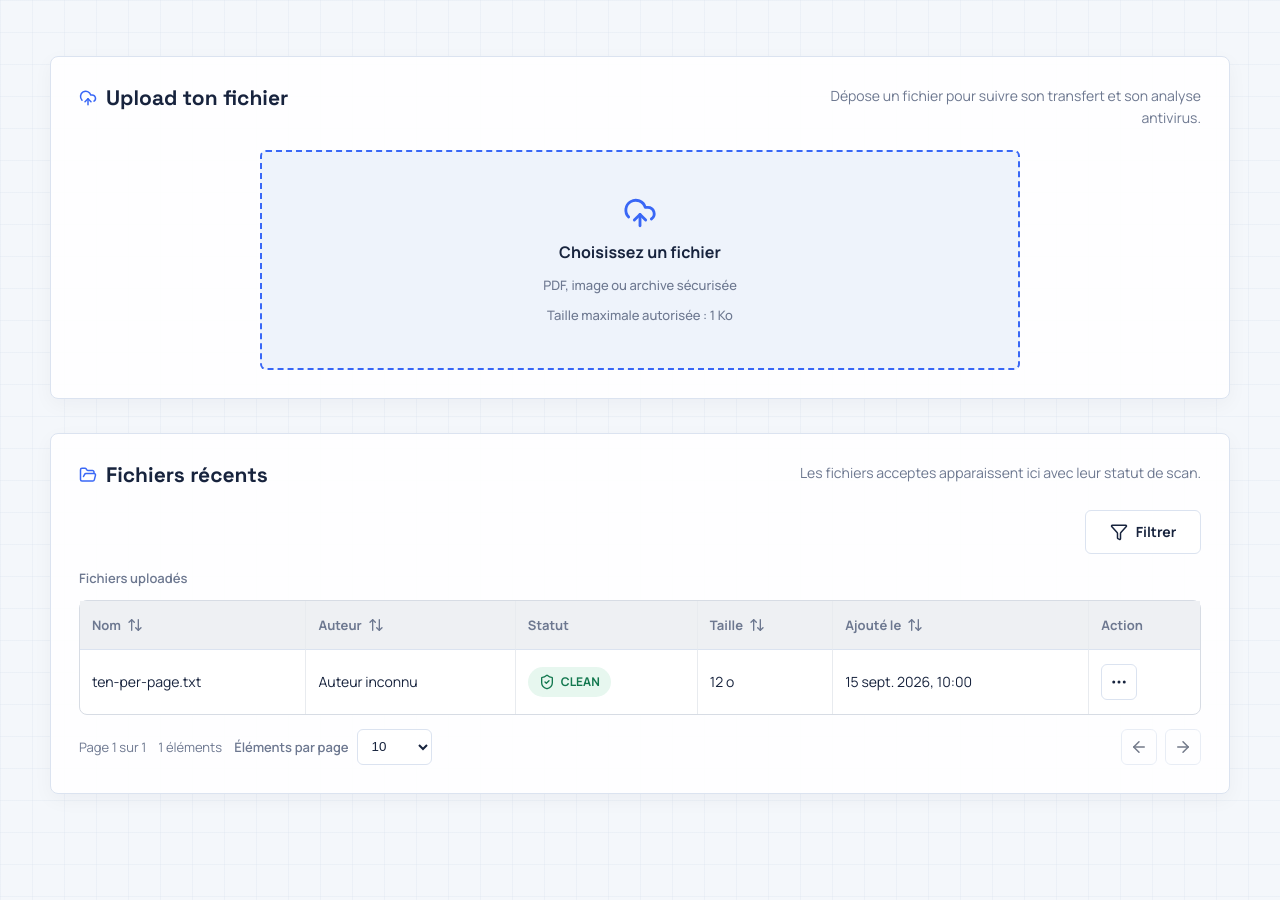
Test case: DashboardPage › requests the selected page size from the backend
Expected: the text "ten-per-page.txt" is shown, top-left (80, 650), bottom-right (306, 714)
Select "25" in the dropdown labelled "Éléments par page" at (394, 747), box top-left (357, 729), bottom-right (432, 765)
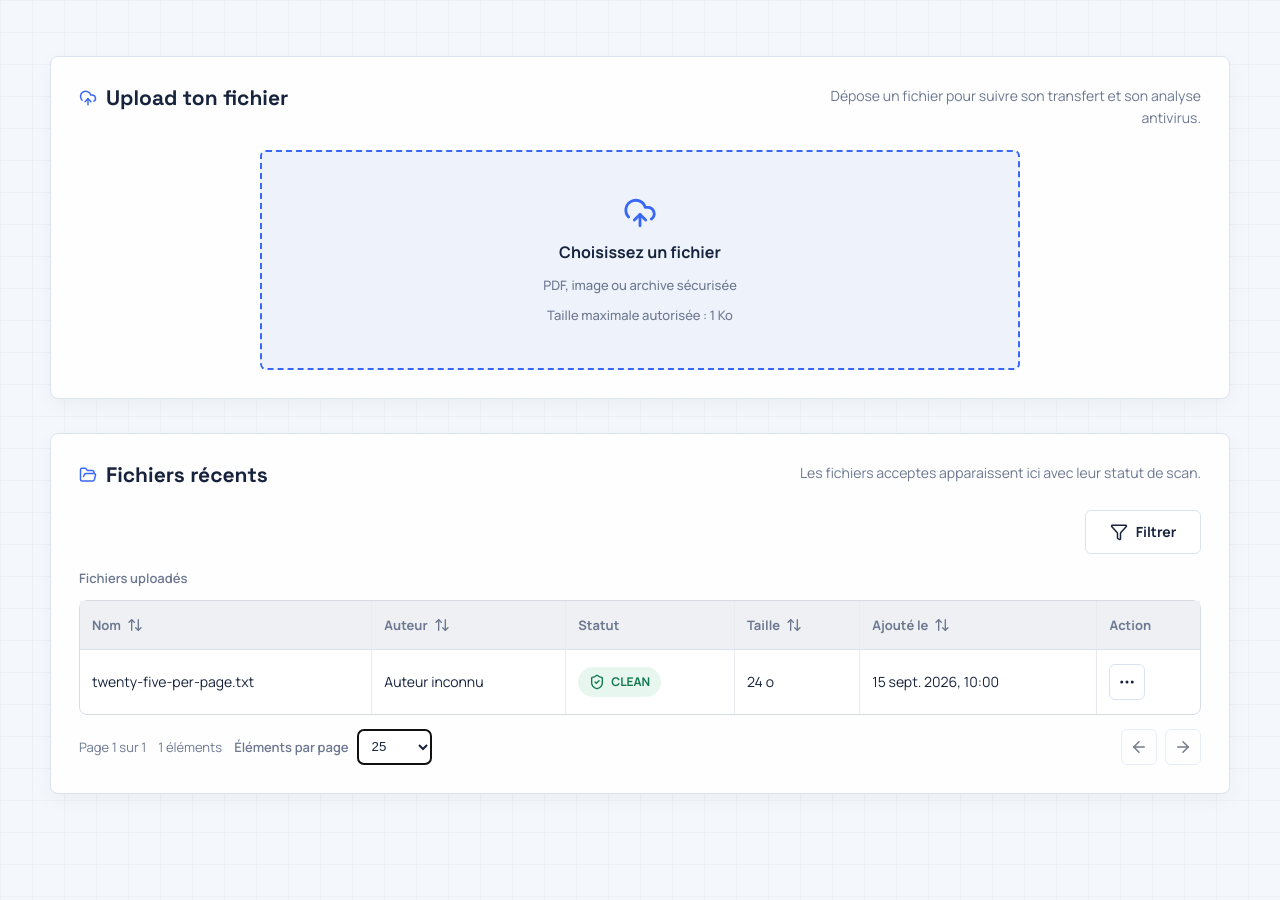
Expected: the text "twenty-five-per-page.txt" is shown, top-left (80, 650), bottom-right (372, 714)
